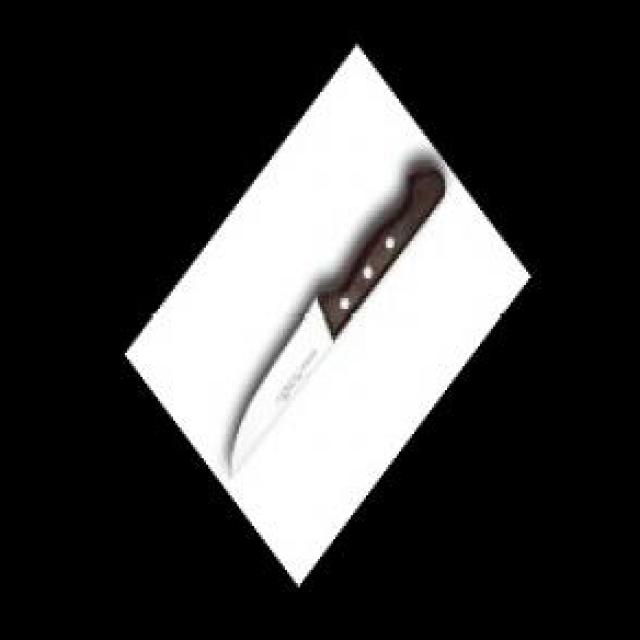knife: (224, 156, 446, 482)
